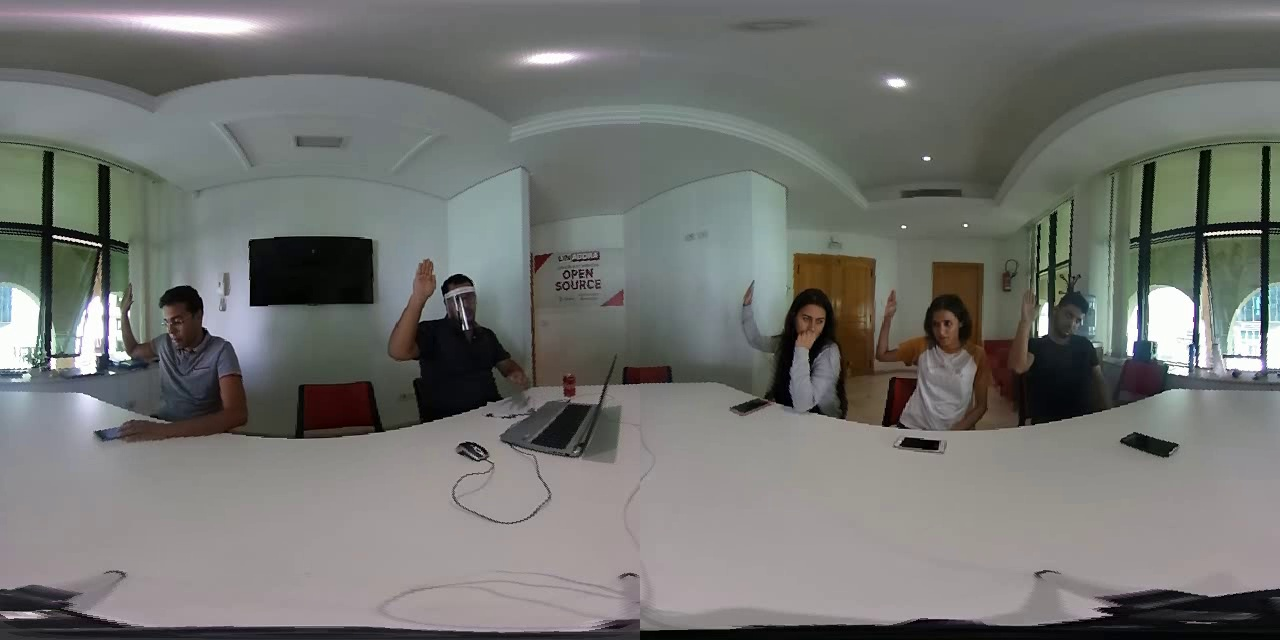person: (98, 276, 271, 452), (383, 256, 546, 407), (865, 287, 1000, 437), (723, 272, 853, 417), (1006, 281, 1119, 419)
voting: (384, 255, 434, 365), (731, 274, 779, 363), (871, 283, 919, 369), (117, 279, 154, 368), (1009, 292, 1046, 371)
